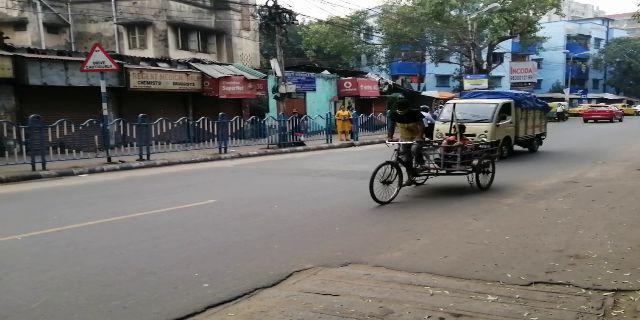Minitruck: (436, 94, 553, 153)
Rickshaw: (354, 108, 500, 203)
